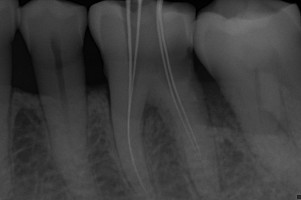Endo-Periodontal Lesion: (143, 99, 163, 119)
